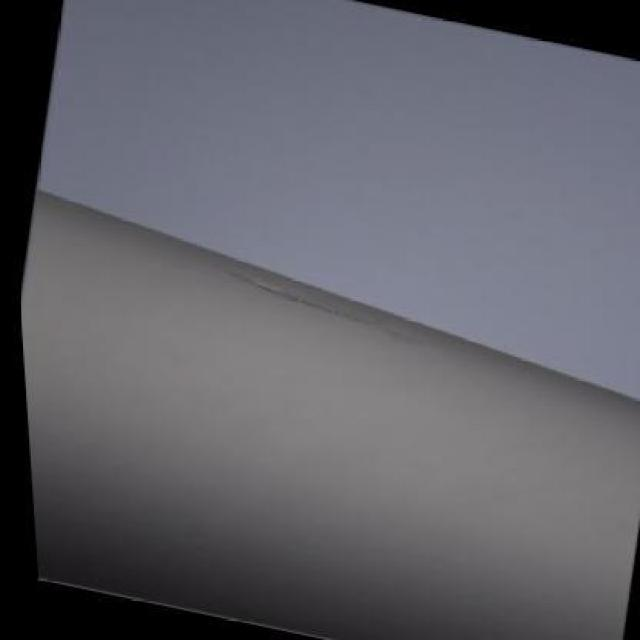Crack: (207, 268, 391, 334)
